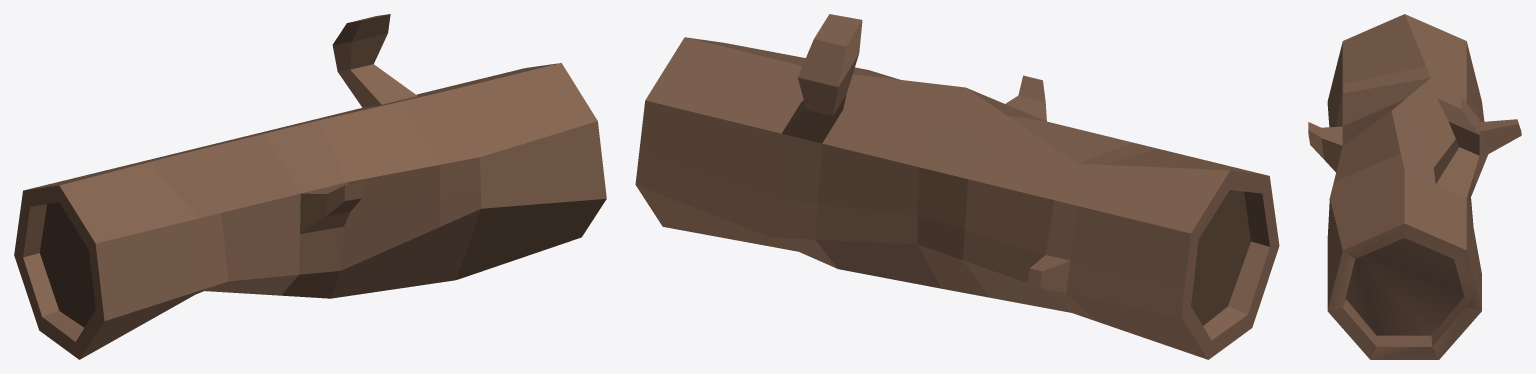
File: Log_5_Light_Brown.fbx
3 renders of one model, left to right at view 1: azimuth 30°, elevation 25°; view 2: azimuth 150°, elevation 25°; view 3: azimuth 270°, elevation 25°, orthographic. The views are drawn at different scales.
Parts seen in each view (by area): view 1: Log_5_Light_Brown_Part_1, Log_5_Light_Brown_Part_2; view 2: Log_5_Light_Brown_Part_1, Log_5_Light_Brown_Part_2; view 3: Log_5_Light_Brown_Part_1, Log_5_Light_Brown_Part_2.
Part boxes in pixels (bbox=[...]): Log_5_Light_Brown_Part_1: bbox=[14, 63, 606, 359]; Log_5_Light_Brown_Part_2: bbox=[300, 14, 417, 233]; Log_5_Light_Brown_Part_1: bbox=[635, 37, 1279, 359]; Log_5_Light_Brown_Part_2: bbox=[782, 14, 1070, 292]; Log_5_Light_Brown_Part_1: bbox=[1327, 14, 1488, 359]; Log_5_Light_Brown_Part_2: bbox=[1308, 85, 1521, 197].
Size of the model in its own units: 250 by 117 by 108.
